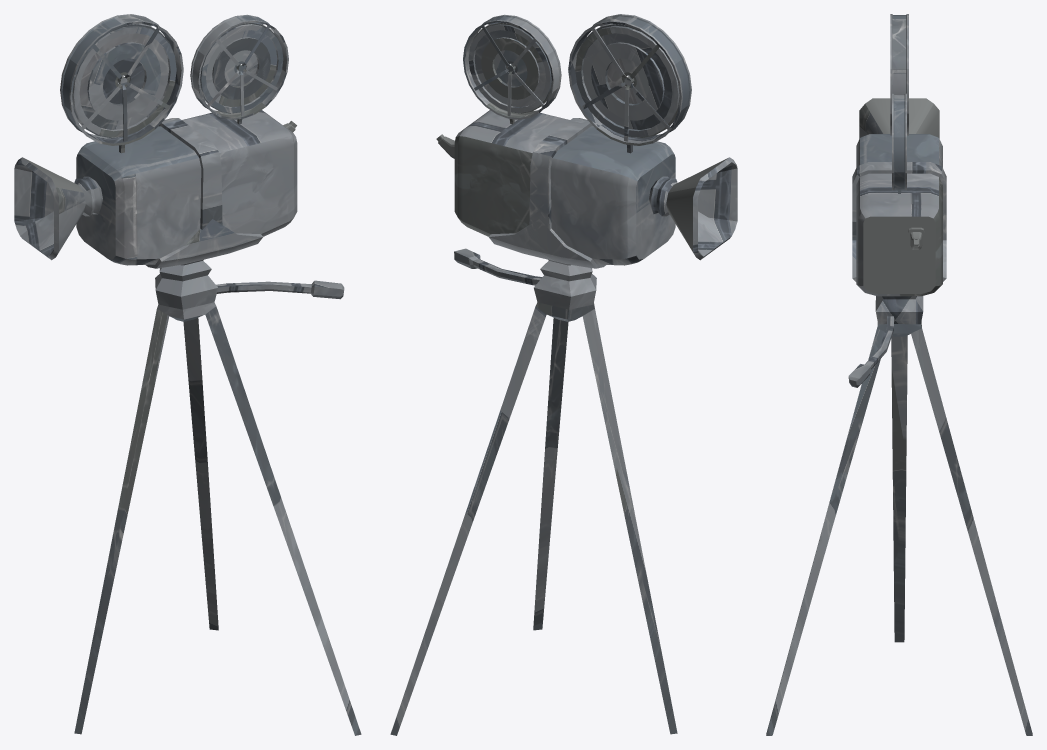
The model's file is sm_projector.fbx.
The picture shows the model from 3 angles, left to right: view 1: azimuth 30°, elevation 25°; view 2: azimuth 150°, elevation 25°; view 3: azimuth 270°, elevation 25°; orthographic projection. The views are drawn at different scales.
Visible parts, largest first — view 1: body_low, reels_low, legs_low; view 2: body_low, reels_low, legs_low; view 3: body_low, legs_low, reels_low.
Part boxes in pixels (bbox=[...]): body_low: bbox=[14, 110, 344, 309]; reels_low: bbox=[60, 14, 288, 153]; legs_low: bbox=[74, 302, 361, 735]; body_low: bbox=[436, 110, 737, 309]; reels_low: bbox=[463, 14, 691, 153]; legs_low: bbox=[390, 302, 677, 735]; body_low: bbox=[848, 98, 946, 387]; legs_low: bbox=[766, 321, 1032, 735]; reels_low: bbox=[890, 14, 908, 193].
Bounding box in the file's own units: 121 × 283 × 107.
